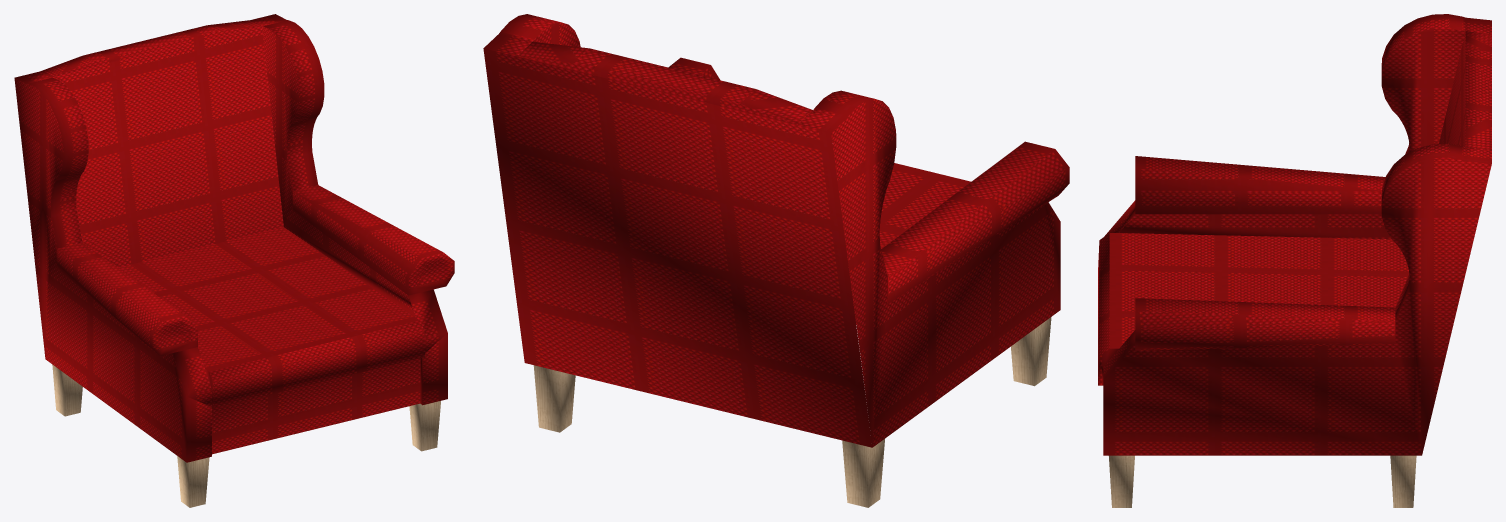
The model's file is sh-contrib-armchair-wing.glb.
3 views of the same model, side by side, from view 1: azimuth 30°, elevation 25°; view 2: azimuth 150°, elevation 25°; view 3: azimuth 270°, elevation 25° (orthographic). The views are drawn at different scales.
Visible parts, largest first — view 1: 1, 3; view 2: 1, 3; view 3: 1, 3.
Part boxes in pixels (x1,y1,x2,y2): 1: (14, 14, 454, 462); 3: (52, 364, 440, 507); 1: (483, 14, 1069, 447); 3: (533, 317, 1051, 507); 1: (1098, 14, 1491, 455); 3: (1109, 455, 1416, 507).
Size of the model in its own units: 1 by 1 by 1.
Materials: 2 (2 with a texture image).
